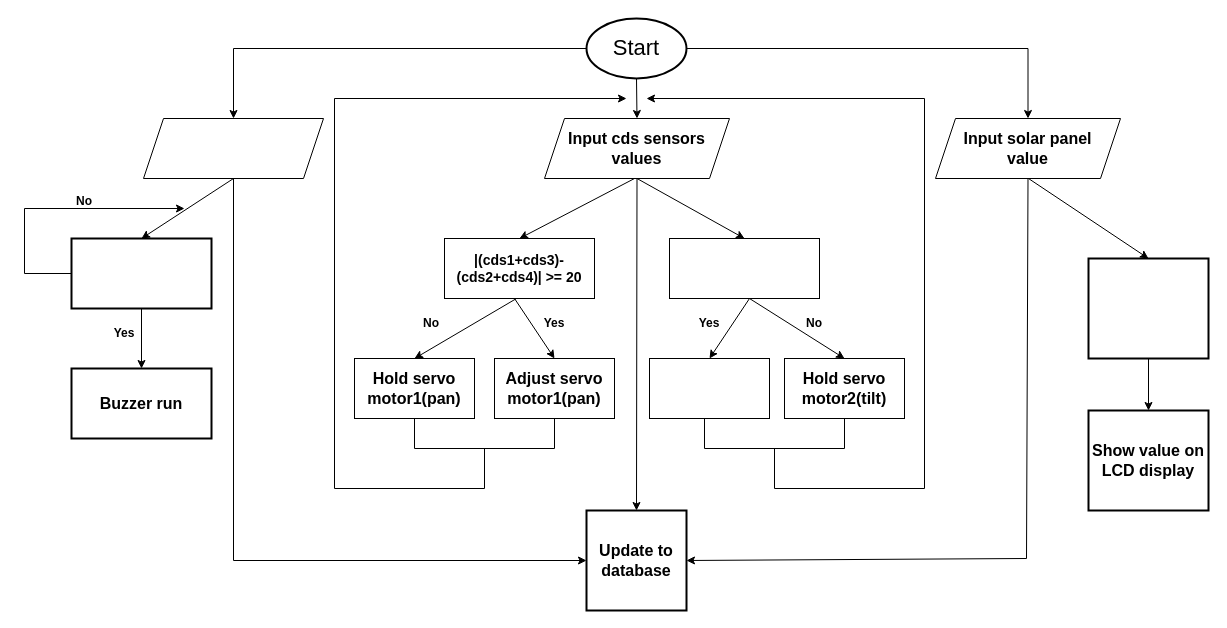
This 1227x628 diagram has some shape labels left out. The shapes that lost their labels are listed below. From the top down, each one's centre as x and y in pixels, then its label:
At [233,148]: "Input PIR sensor value".
At [141,273]: "PIR sensor value == 1".
At [744,268]: "|(cds1+cds2)-(cds3+cds4)| >= 20".
At [1148,308]: "Calculate as a percentage".
At [709,388]: "Adjust servo motor2(tilt)".
